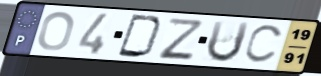4: (75, 11, 111, 57)
C: (242, 23, 286, 65)
D: (115, 13, 166, 60)
O: (36, 10, 77, 52)
U: (204, 19, 252, 64)
Z: (157, 16, 204, 60)
